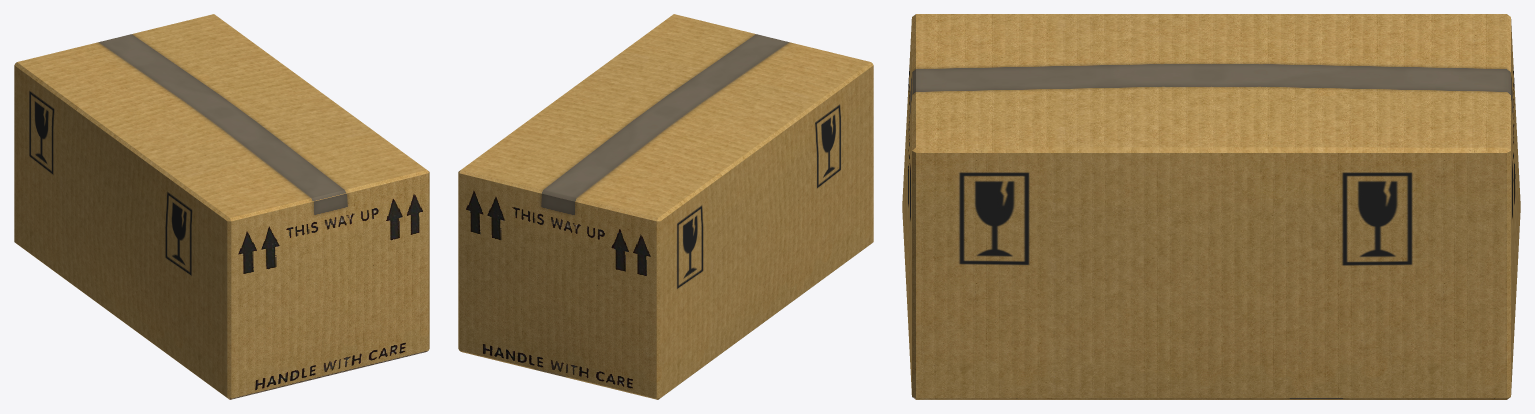
File: CardboardBoxA_Clean.fbx
The picture shows the model from 3 angles, left to right: view 1: azimuth 30°, elevation 25°; view 2: azimuth 150°, elevation 25°; view 3: azimuth 270°, elevation 25°; orthographic projection. The views are drawn at different scales.
Visible parts, largest first — view 1: CardboardBoxA_Clean; view 2: CardboardBoxA_Clean; view 3: CardboardBoxA_Clean.
Boxes of the visible parts, x1,y1,x2,y2 form: CardboardBoxA_Clean: (14,14,429,399); CardboardBoxA_Clean: (458,14,873,399); CardboardBoxA_Clean: (902,14,1520,399).
Bounding box in the file's own units: 26.22 × 22.55 × 47.79.
